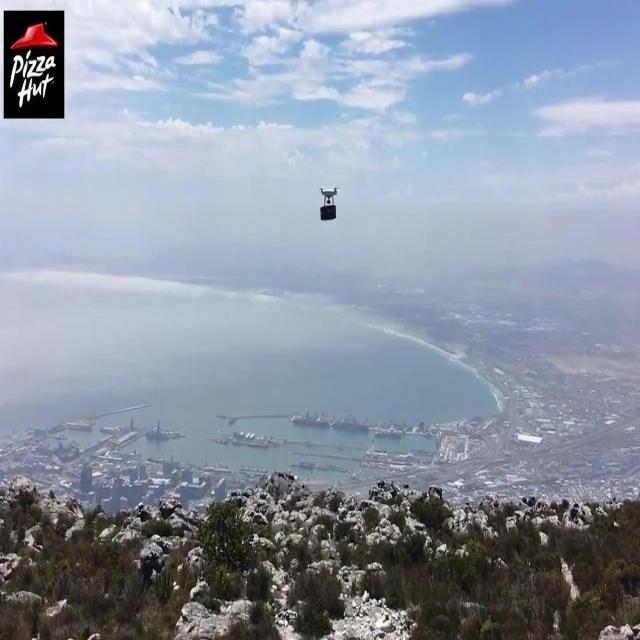drone: (318, 180, 340, 206)
